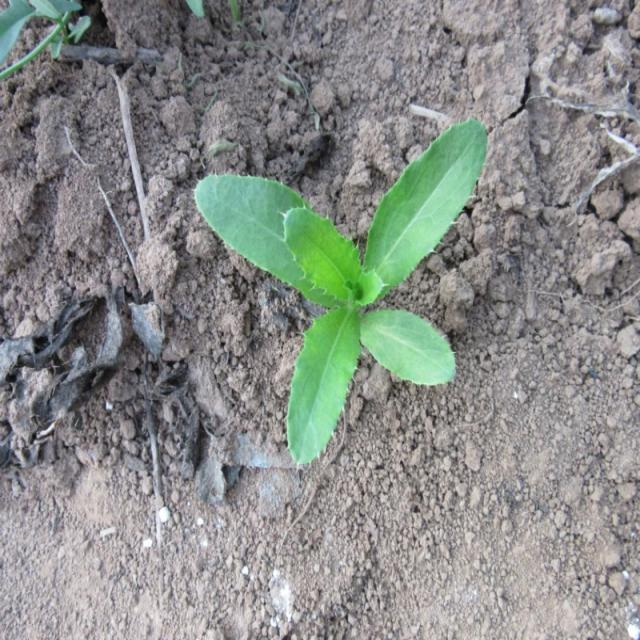cs: (195, 117, 492, 470)
